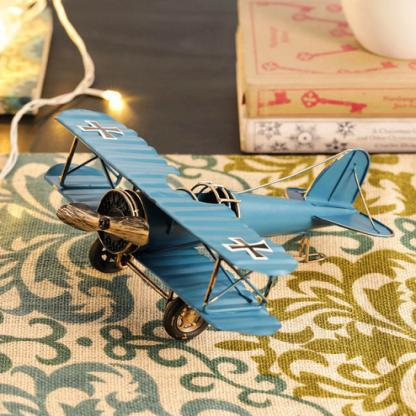CIV_Plane: (34, 106, 392, 341)
